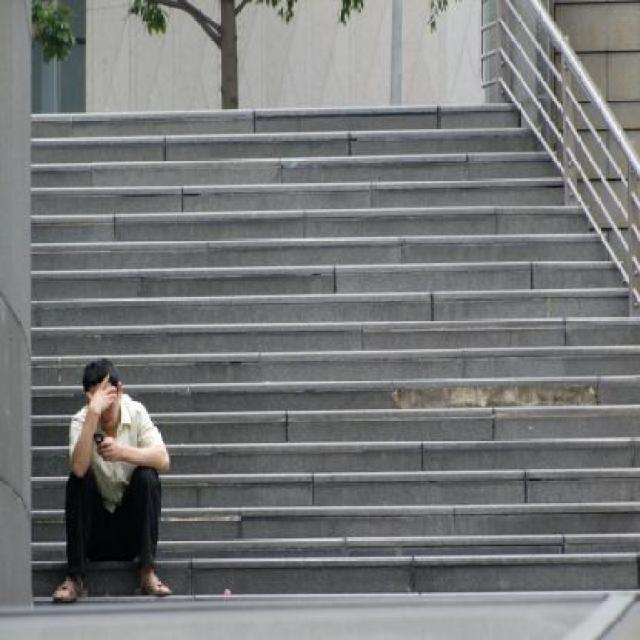stair: (31, 100, 640, 589)
